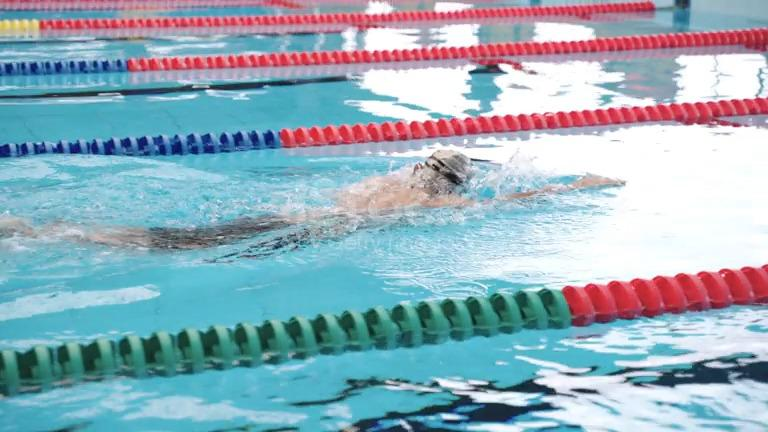Swimming: (2, 146, 628, 266)
